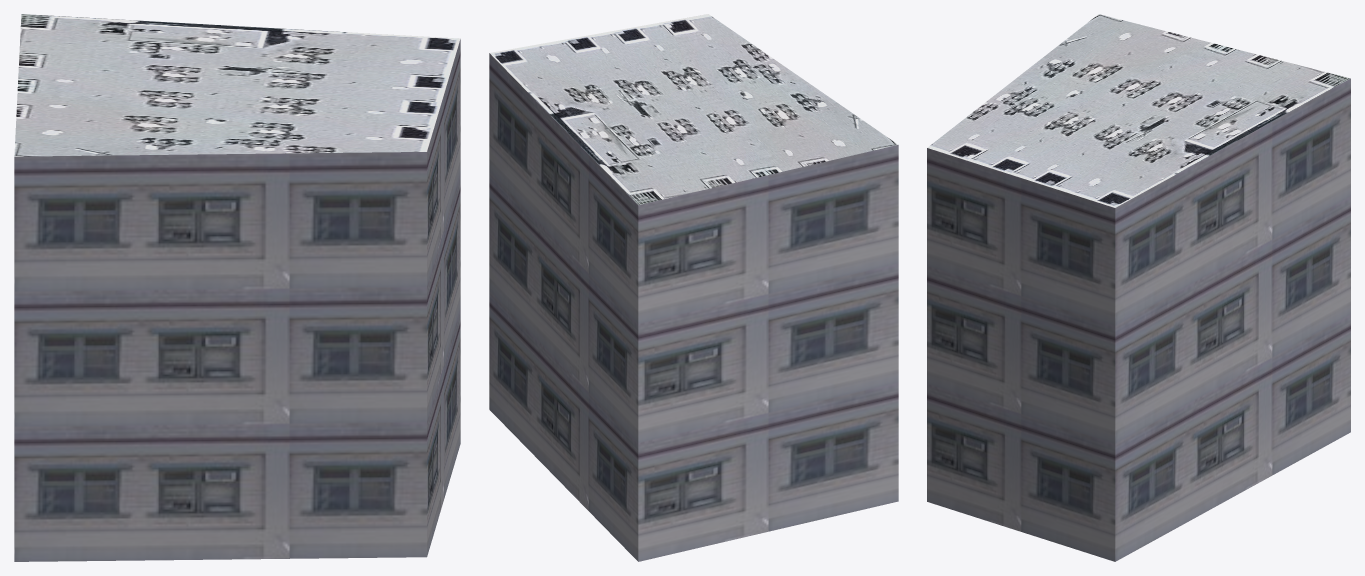
The model's file is ResTex__3890.fbx.
The picture shows the model from 3 angles, left to right: view 1: azimuth 30°, elevation 25°; view 2: azimuth 150°, elevation 25°; view 3: azimuth 270°, elevation 25°; orthographic projection. The views are drawn at different scales.
Parts seen in each view (by area): view 1: CityEngineMaterial_1_m, CityEngineMaterial_4_m; view 2: CityEngineMaterial_1_m, CityEngineMaterial_4_m; view 3: CityEngineMaterial_1_m, CityEngineMaterial_4_m.
Part boxes in pixels (x1,y1,x2,y2): CityEngineMaterial_1_m: [14, 39, 460, 561]; CityEngineMaterial_4_m: [14, 14, 460, 156]; CityEngineMaterial_1_m: [489, 53, 898, 561]; CityEngineMaterial_4_m: [490, 14, 897, 205]; CityEngineMaterial_1_m: [927, 78, 1350, 561]; CityEngineMaterial_4_m: [927, 14, 1350, 207].
Size of the model in its own units: 10.58 by 9 by 9.77.
2 materials, 2 textured.
